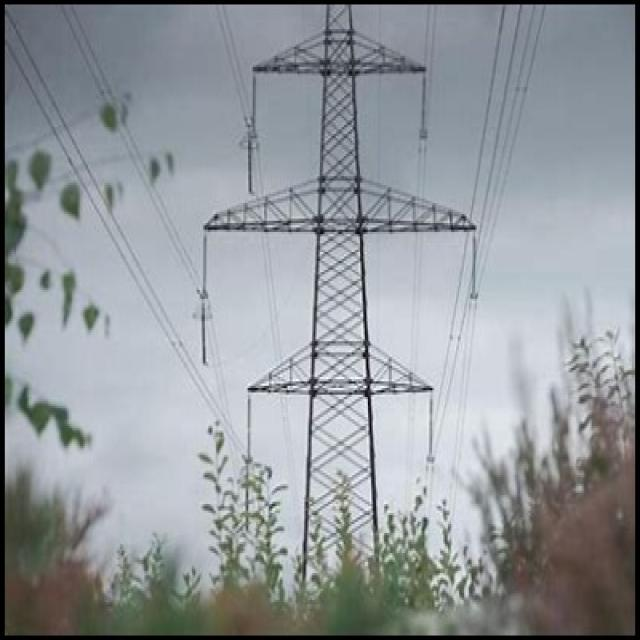utility poles: (210, 379, 471, 636)
